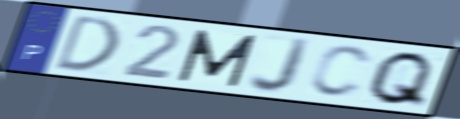2: (117, 23, 182, 81)
C: (306, 44, 375, 100)
D: (51, 13, 123, 73)
J: (247, 35, 315, 95)
M: (175, 27, 260, 89)
Q: (364, 49, 438, 110)
